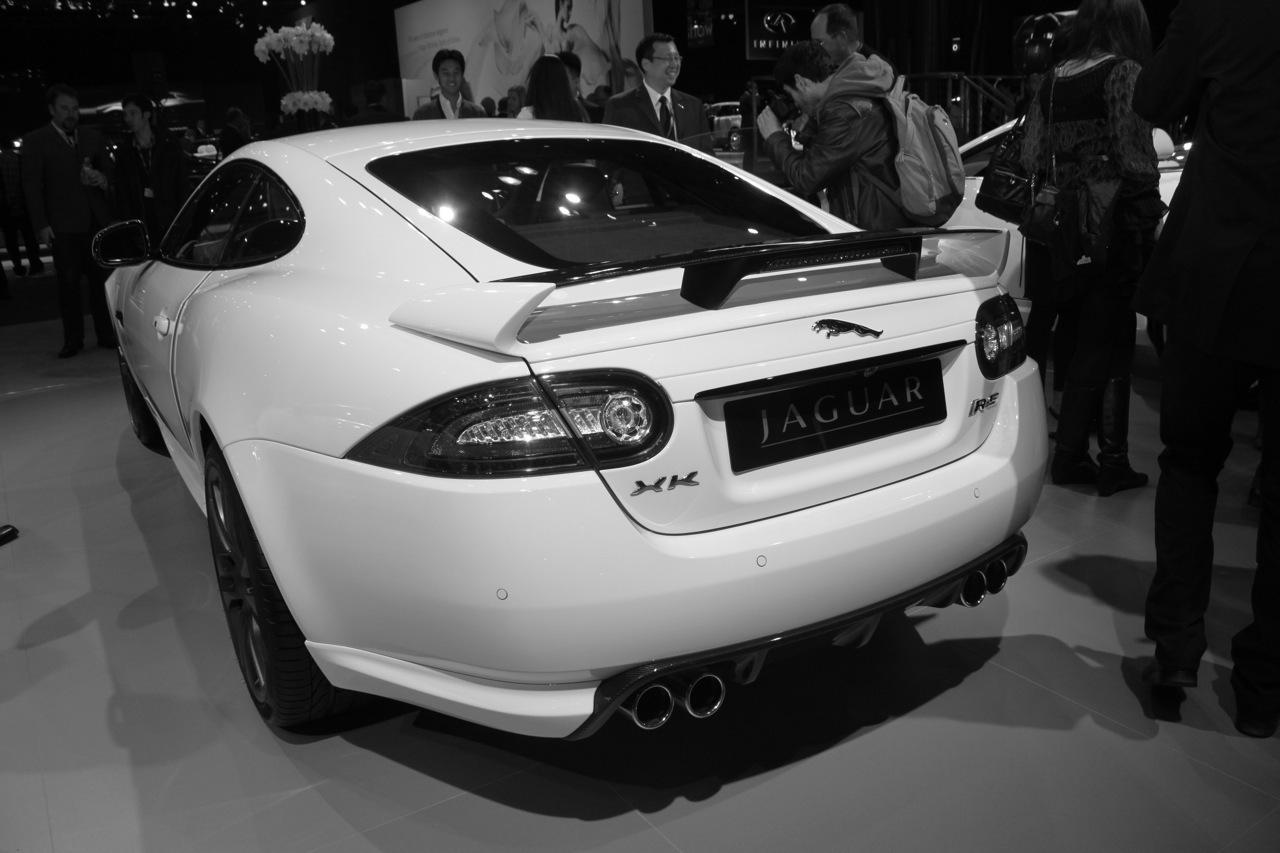car: (101, 125, 1043, 745)
